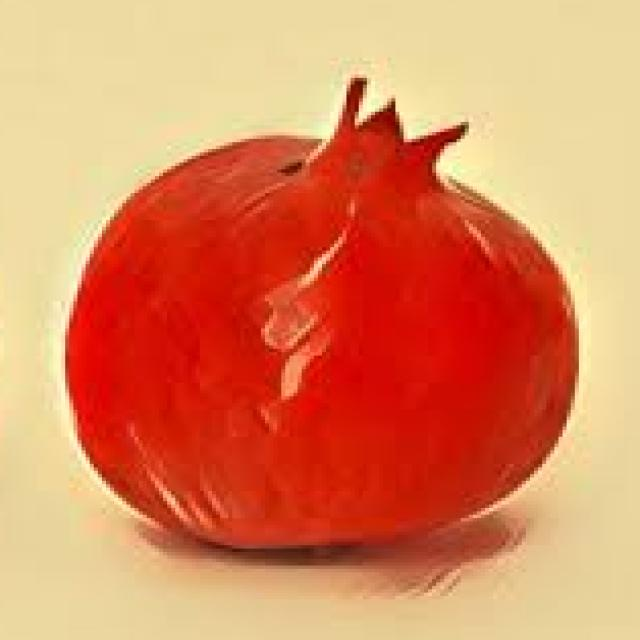inorganic: (58, 89, 608, 569)
